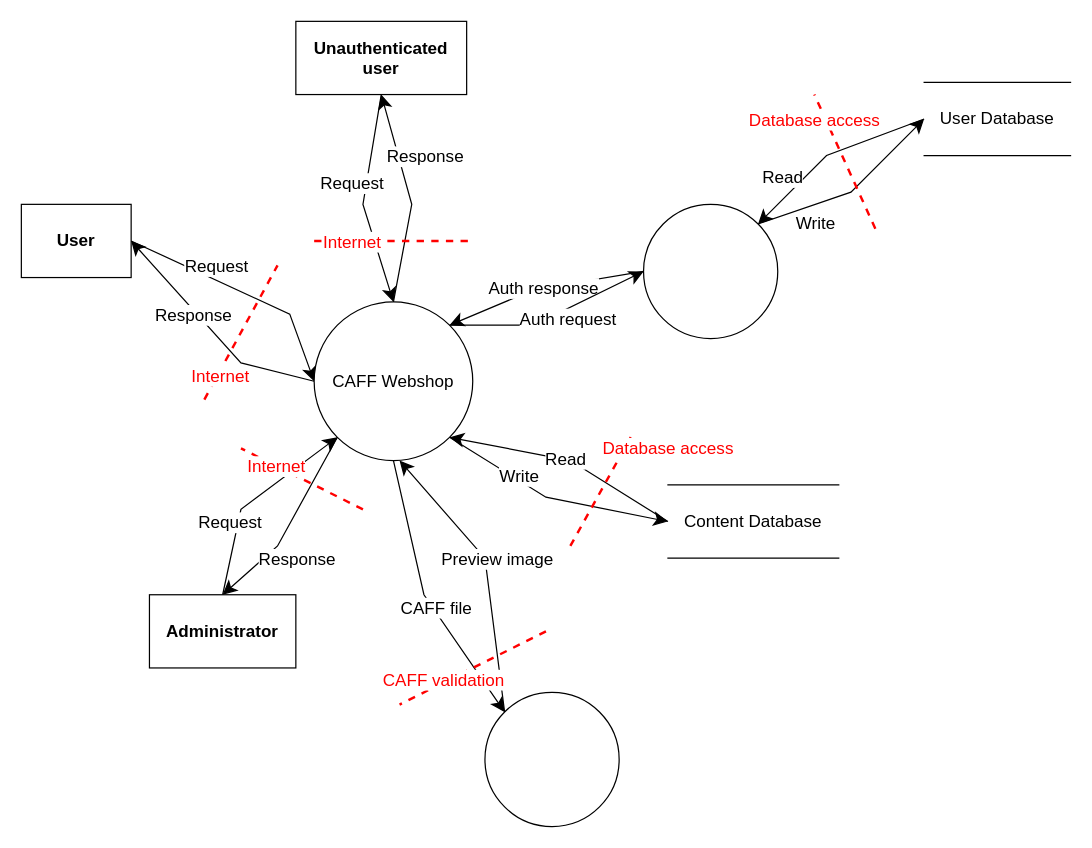
The diagram is 1092 pixels wide and 848 high, and some of its shapes have lost their labels. Here are the shapes that lost their labels. From the top down, the centre of each, then its label:
the point at 710,271: User authenticator
the point at 551,759: CAFF Parser
